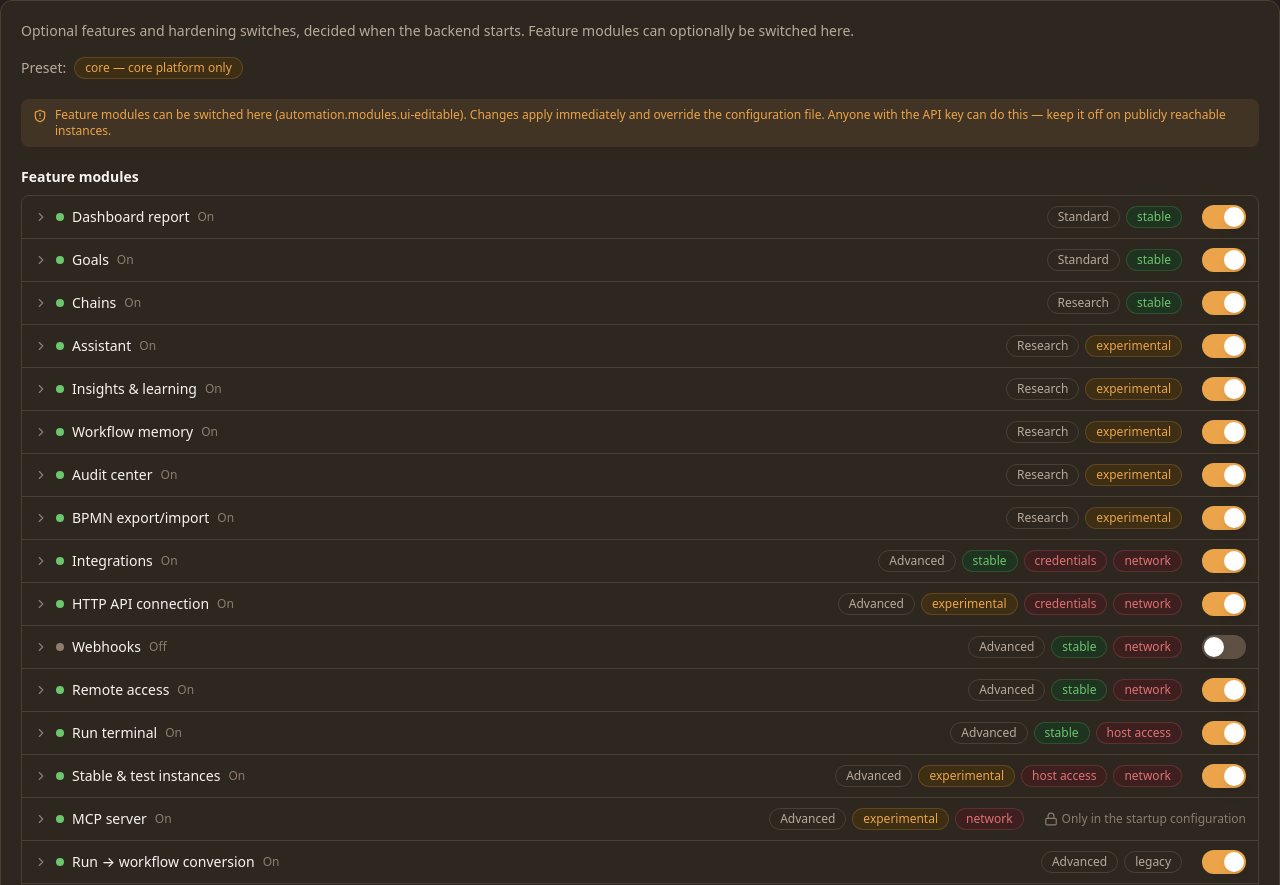
Test: ModulesCard › with automation.modules.ui-editable › offers a switch per feature module only and applies the result immediately
The image size is (1280, 885).
Expected: the element with test id "modules-ui-editable" is shown, 21,99 -> 1259,147
What coordinates should you click on to do the following:
click the switch named "Switch Webhooks"
I would click on:
 (1224, 647)
Its box is 1202,635 -> 1246,659.
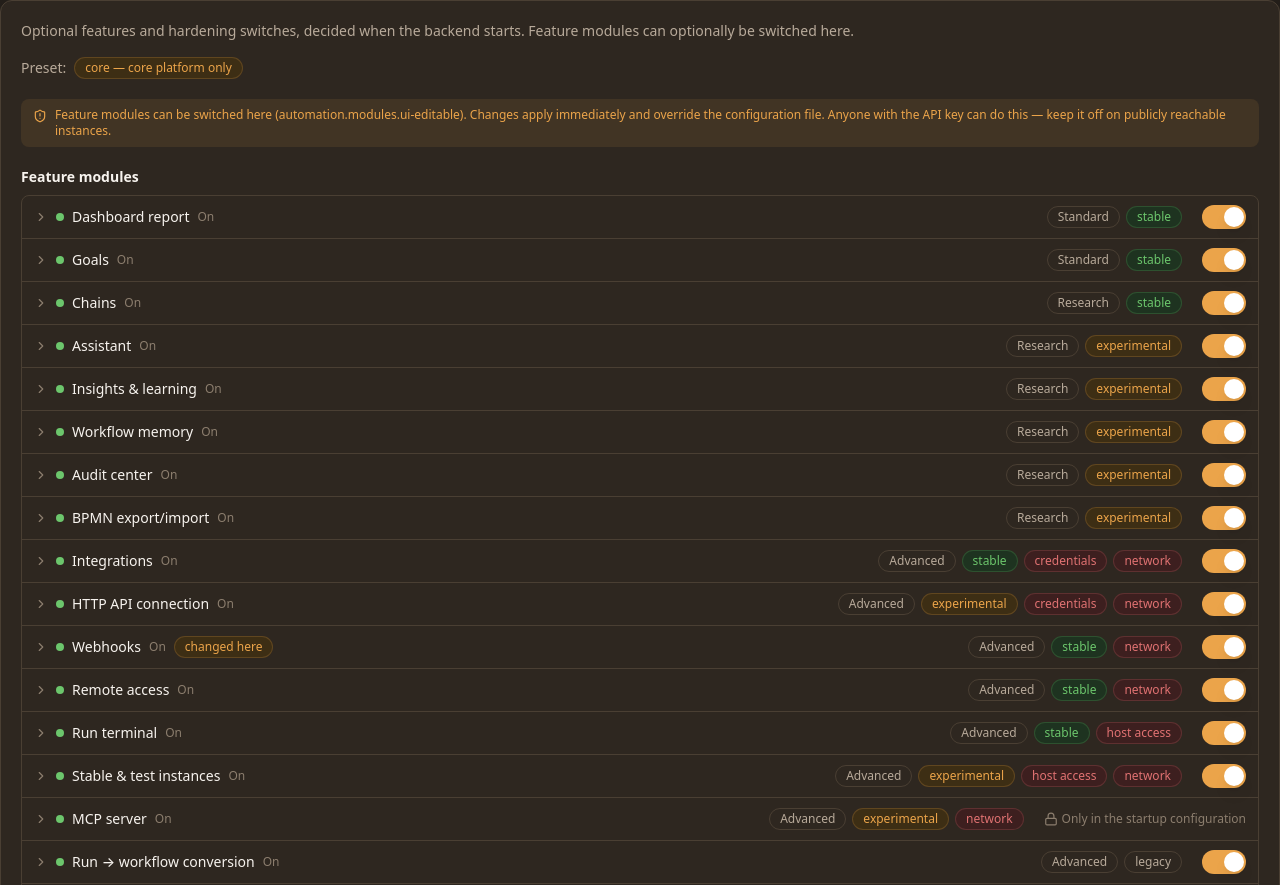
Now the text "changed here" is shown, box 174,636 -> 273,658
